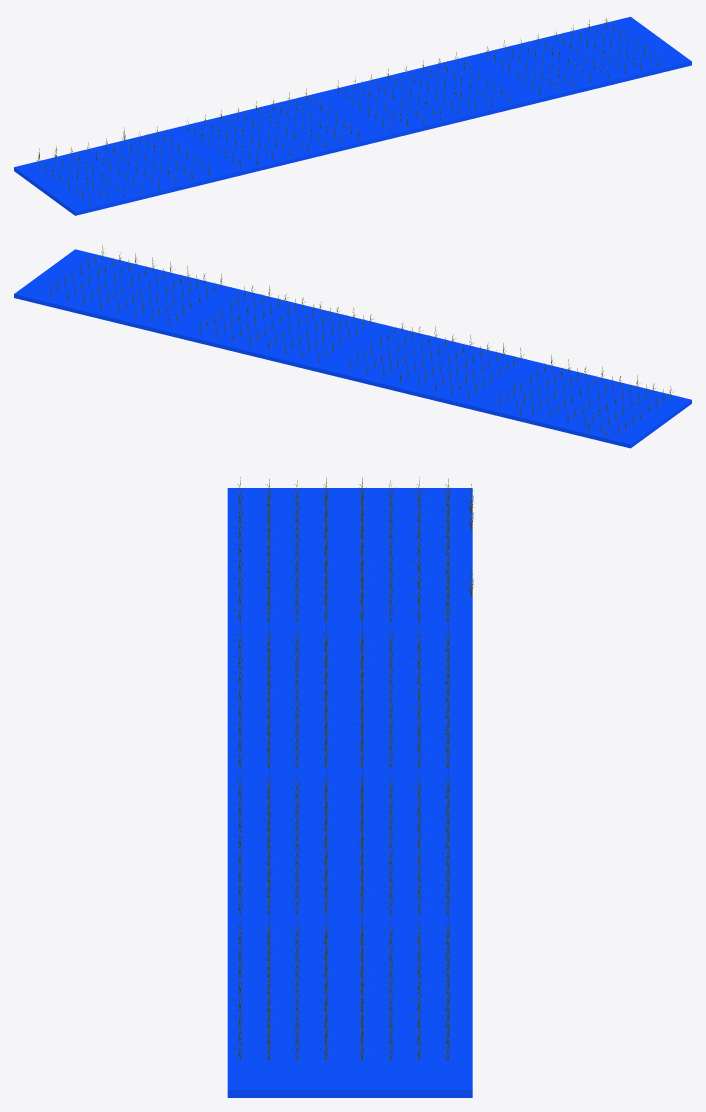
3 renders of one model, top to bottom at view 1: azimuth 30°, elevation 25°; view 2: azimuth 150°, elevation 25°; view 3: azimuth 270°, elevation 25°, orthographic. The views are drawn at different scales.
Visible parts, largest first — view 1: 立方体.020; view 2: 立方体.020; view 3: 立方体.020.
Boxes of the visible parts, x1=… form: 立方体.020: x1=14, y1=16, x2=691, y2=215; 立方体.020: x1=14, y1=249, x2=691, y2=448; 立方体.020: x1=227, y1=488, x2=472, y2=1097.
Bounding box in the file's own units: 37.19 × 1.06 × 6.54.
3 materials, 2 textured.
